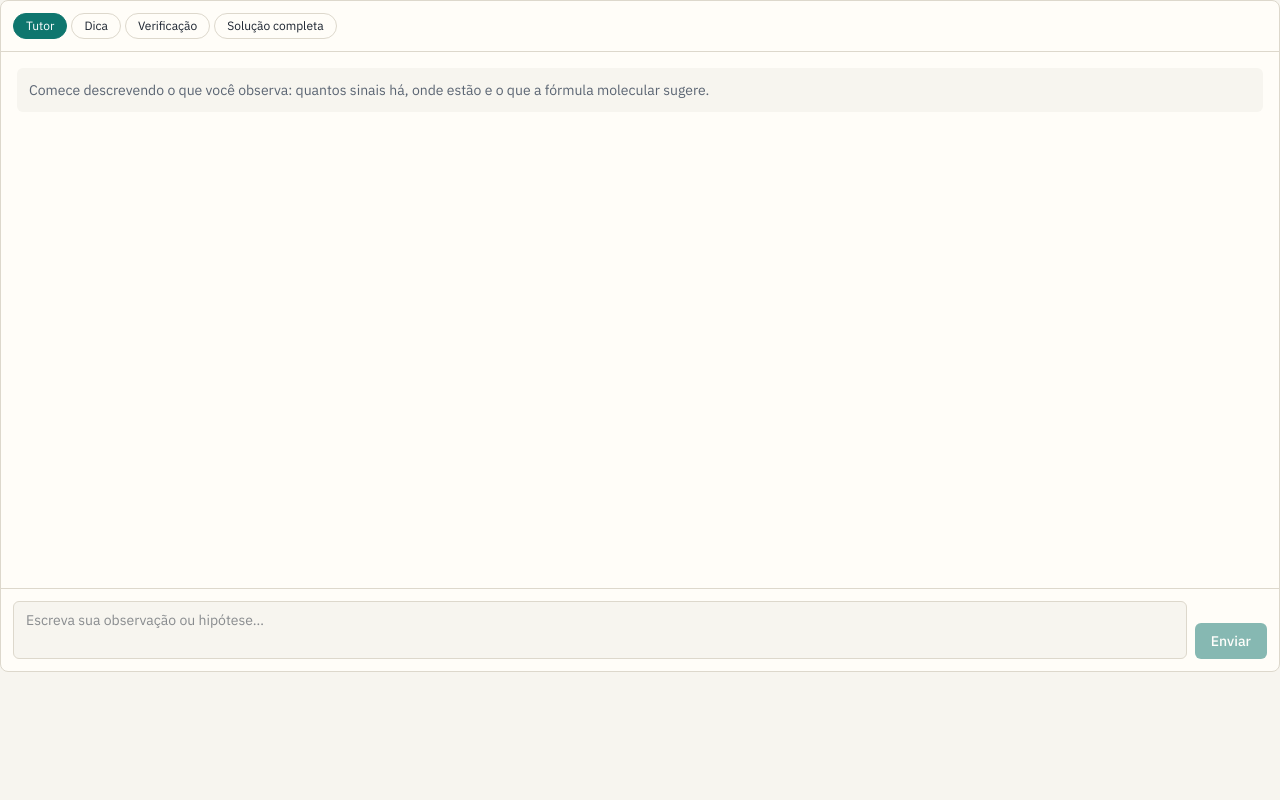
ChatPanel › removes the optimistic message and restores the text when the request is rejected
Type "Minha hipótese longa" into the text box with test id "chat-input".
click(600, 630); type("Minha hipótese longa")  # box [13, 601, 1187, 659]
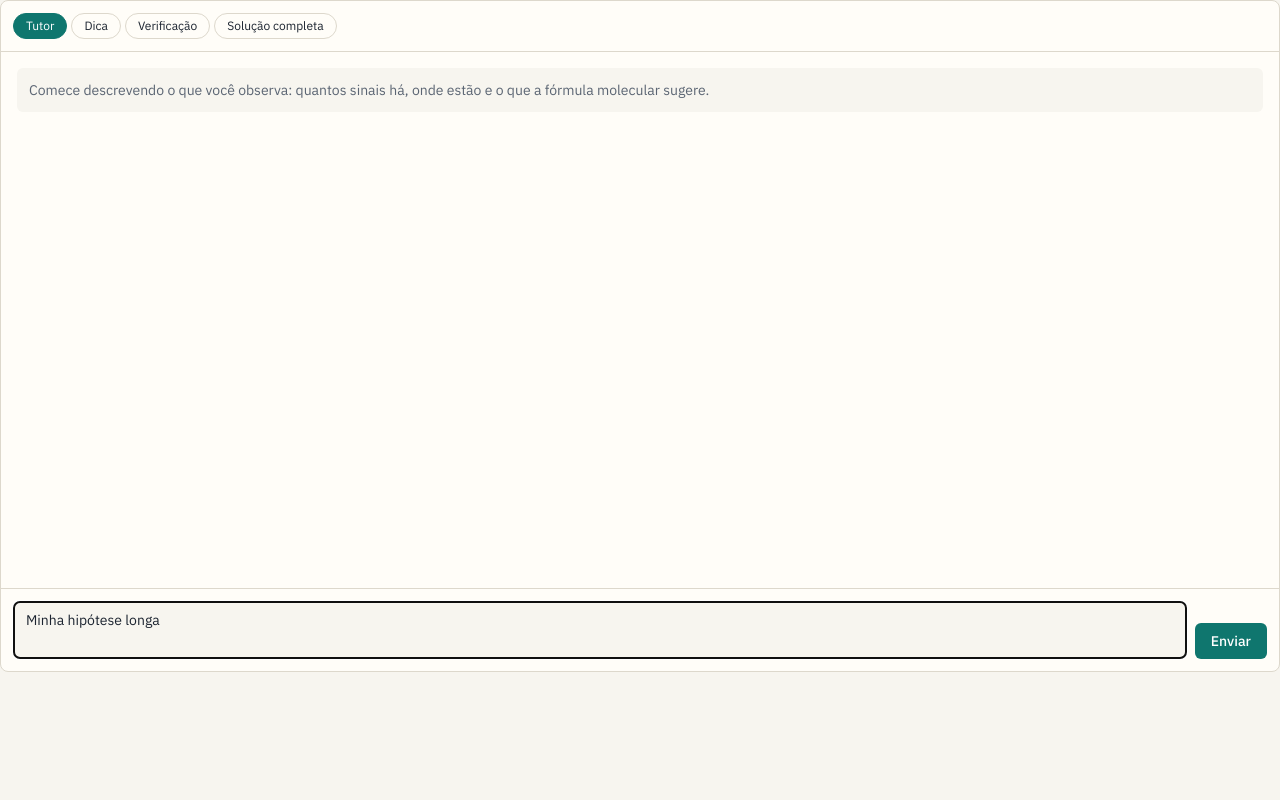
Click the button "Enviar".
click(1231, 641)  # box [1195, 623, 1267, 659]
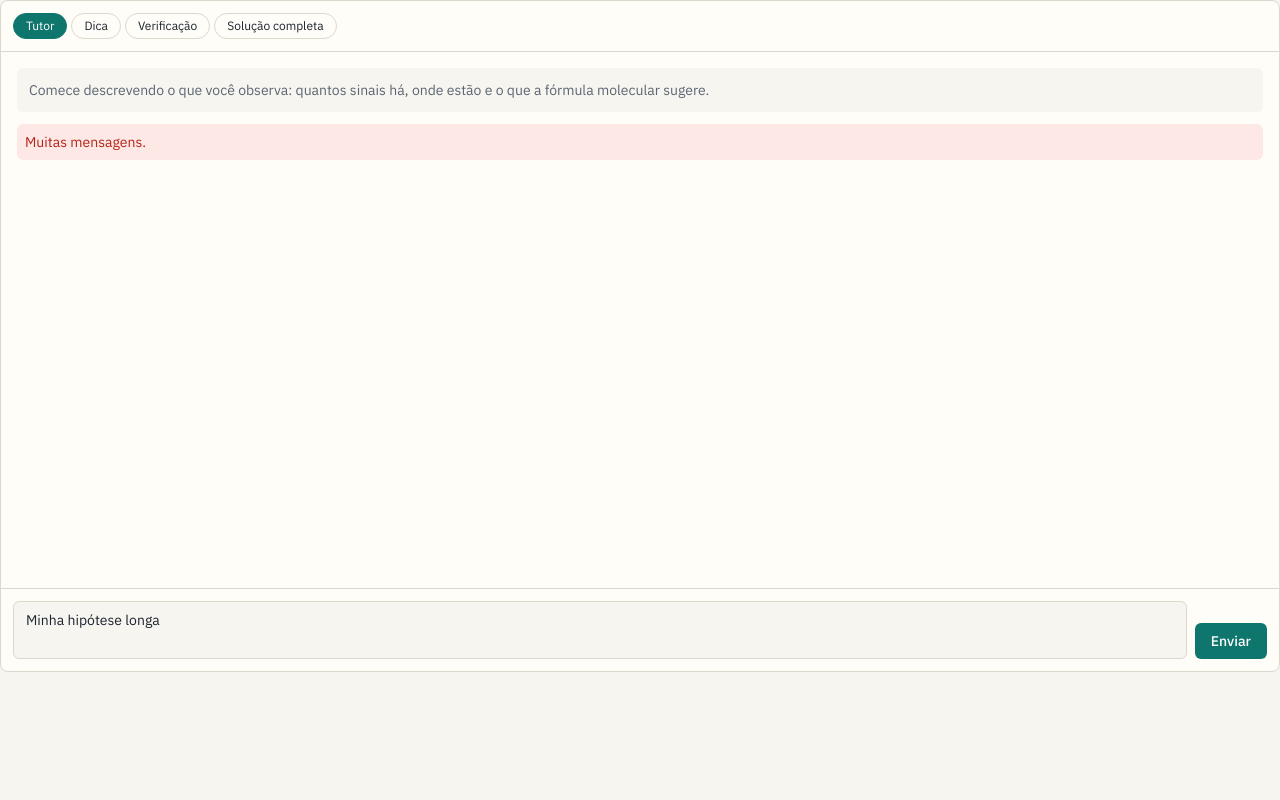
Check: the text "Muitas mensagens." is shown, box [17, 124, 1263, 160]
